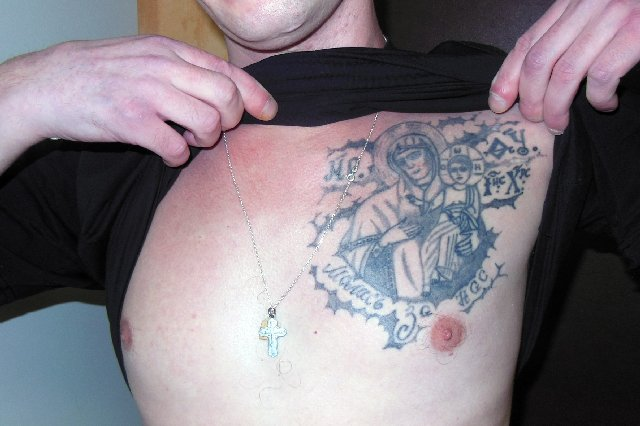tatu2_bogorodica: (305, 128, 514, 319)
